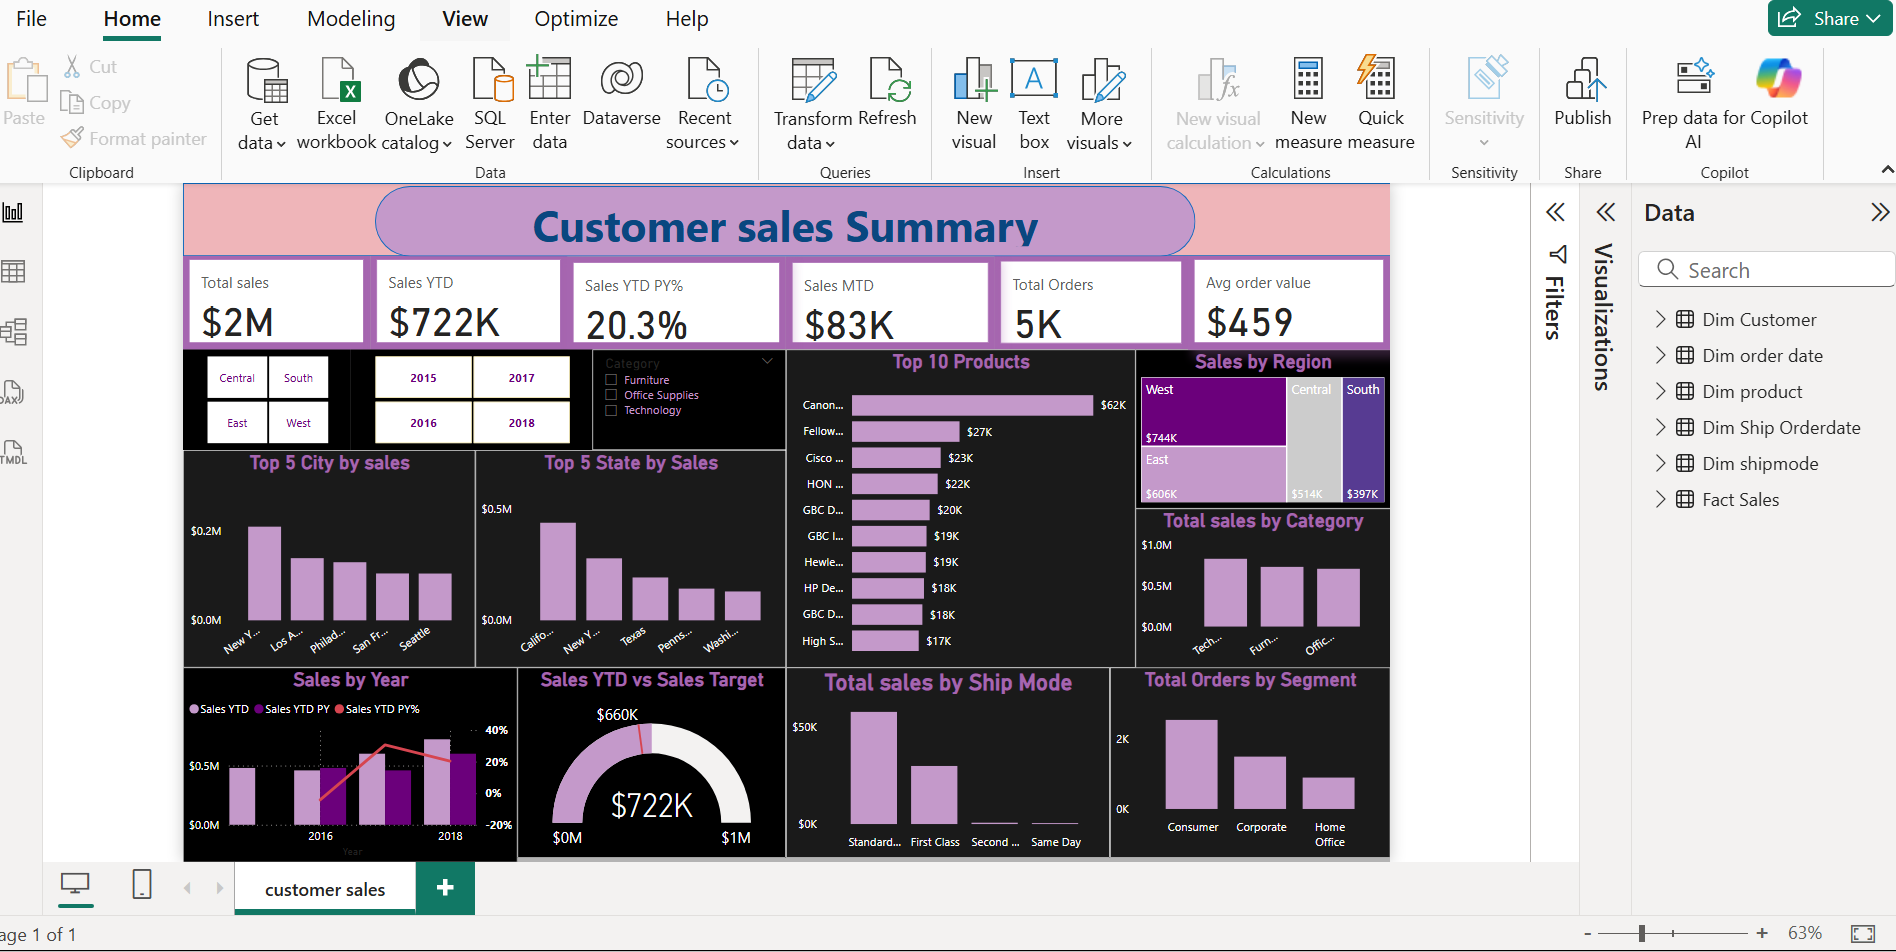

The dashboard page shown, as its layout file describes it:
{"tool":"powerbi","page":{"name":"customer sales","canvas":[1280,720],"ordinal":0},"visuals":[{"type":"columnChart","fields":{"Y":["Fact Sales.Total sales"],"Category":["Dim product.Category"]},"box":[1010,345.2,270.4,170.2],"z":0},{"type":"cardVisual","fields":{"Data":["Fact Sales.Total Orders"]},"box":[860.5,76.3,205.2,100.2],"z":1000},{"type":"cardVisual","fields":{"Data":["Fact Sales.Total sales"]},"box":[0,74.8,198.8,101.8],"z":2000},{"type":"treemap","title":"Sales by Region","fields":{"Group":["Dim Customer.Region"],"Values":["Sum(Fact Sales.Sales)"]},"box":[1010,176.6,270.4,168.6],"z":3000},{"type":"cardVisual","fields":{"Data":["Fact Sales.Sales YTD"]},"box":[198.8,74.8,208.4,101.8],"z":4000},{"type":"cardVisual","fields":{"Data":["Fact Sales.Sales MTD"]},"box":[639.4,77.9,221.1,98.6],"z":5000},{"type":"cardVisual","fields":{"Data":["Fact Sales.Avg order value"]},"box":[1065.7,74.8,214.7,101.8],"z":6000},{"type":"cardVisual","fields":{"Data":["Fact Sales.Sales YTD PY%"]},"box":[407.2,77.9,232.2,98.6],"z":7000},{"type":"barChart","title":"Top 10 Products","fields":{"Category":["Dim product.Product Name"],"Y":["Sum(Fact Sales.Sales)"]},"box":[639.4,176.6,370.6,337.2],"z":8000},{"type":"lineClusteredColumnComboChart","title":"Sales by Year","fields":{"Category":["Dim order date.Order Date.Variation.Date Hierarchy.Year"],"Y":["Fact Sales.Sales YTD","Fact Sales.Sales YTD PY"],"Y2":["Fact Sales.Sales YTD PY%"]},"box":[0,513.8,354.7,206.8],"z":9000},{"type":"gauge","title":"Sales YTD vs Sales Target","fields":{"TargetValue":["Fact Sales.Sales Target"],"Y":["Fact Sales.Sales YTD"]},"box":[354.7,513.8,284.7,202],"z":10000},{"type":"slicer","fields":{"Values":["Dim order date.Year"]},"box":[178.1,176.6,256.1,106.6],"z":11000},{"type":"slicer","fields":{"Values":["Dim Customer.Region"]},"box":[0,176.6,178.1,106.6],"z":12000},{"type":"slicer","fields":{"Values":["Dim product.Category"]},"box":[434.2,176.6,205.2,106.6],"z":13000},{"type":"columnChart","title":"Top 5 City by sales","fields":{"Category":["Dim Customer.City"],"Y":["Sum(Fact Sales.Sales)"]},"box":[0,283.1,310.2,230.6],"z":14000},{"type":"shape","box":[0,0,1799.9,77.6],"z":15000},{"type":"shape","box":[203.6,3.2,870.1,74.8],"z":16000},{"type":"columnChart","title":"Top 5 State by Sales","fields":{"Category":["Dim Customer.State"],"Y":["Sum(Fact Sales.Sales)"]},"box":[310.2,283.1,329.3,230.6],"z":17000},{"type":"columnChart","fields":{"Y":["Fact Sales.Total sales"],"Category":["Dim shipmode.Ship Mode"]},"box":[639.4,513.8,343.6,202],"z":18000},{"type":"columnChart","fields":{"Category":["Dim Customer.Segment"],"Y":["Fact Sales.Total Orders"]},"box":[983,513.8,297.4,202],"z":19000}]}

Visuals, with their boxes on the page's 1280x720 design canvas (x1, y1, x2, y2). These are canvas units, not pixel positions in the 1896x952 screenshot, which may show the page scaled, cropped or inside an application window:
columnChart - Fact Sales.Total sales x Dim product.Category: (left=1010, top=345, right=1280, bottom=515)
cardVisual - Fact Sales.Total Orders: (left=860, top=76, right=1066, bottom=176)
cardVisual - Fact Sales.Total sales: (left=0, top=75, right=199, bottom=177)
"Sales by Region" treemap: (left=1010, top=177, right=1280, bottom=345)
cardVisual - Fact Sales.Sales YTD: (left=199, top=75, right=407, bottom=177)
cardVisual - Fact Sales.Sales MTD: (left=639, top=78, right=860, bottom=176)
cardVisual - Fact Sales.Avg order value: (left=1066, top=75, right=1280, bottom=177)
cardVisual - Fact Sales.Sales YTD PY%: (left=407, top=78, right=639, bottom=176)
"Top 10 Products" barChart: (left=639, top=177, right=1010, bottom=514)
"Sales by Year" lineClusteredColumnComboChart: (left=0, top=514, right=355, bottom=721)
"Sales YTD vs Sales Target" gauge: (left=355, top=514, right=639, bottom=716)
slicer - Dim order date.Year: (left=178, top=177, right=434, bottom=283)
slicer - Dim Customer.Region: (left=0, top=177, right=178, bottom=283)
slicer - Dim product.Category: (left=434, top=177, right=639, bottom=283)
"Top 5 City by sales" columnChart: (left=0, top=283, right=310, bottom=514)
shape: (left=0, top=0, right=1800, bottom=78)
shape: (left=204, top=3, right=1074, bottom=78)
"Top 5 State by Sales" columnChart: (left=310, top=283, right=640, bottom=514)
columnChart - Fact Sales.Total sales x Dim shipmode.Ship Mode: (left=639, top=514, right=983, bottom=716)
columnChart - Dim Customer.Segment x Fact Sales.Total Orders: (left=983, top=514, right=1280, bottom=716)
